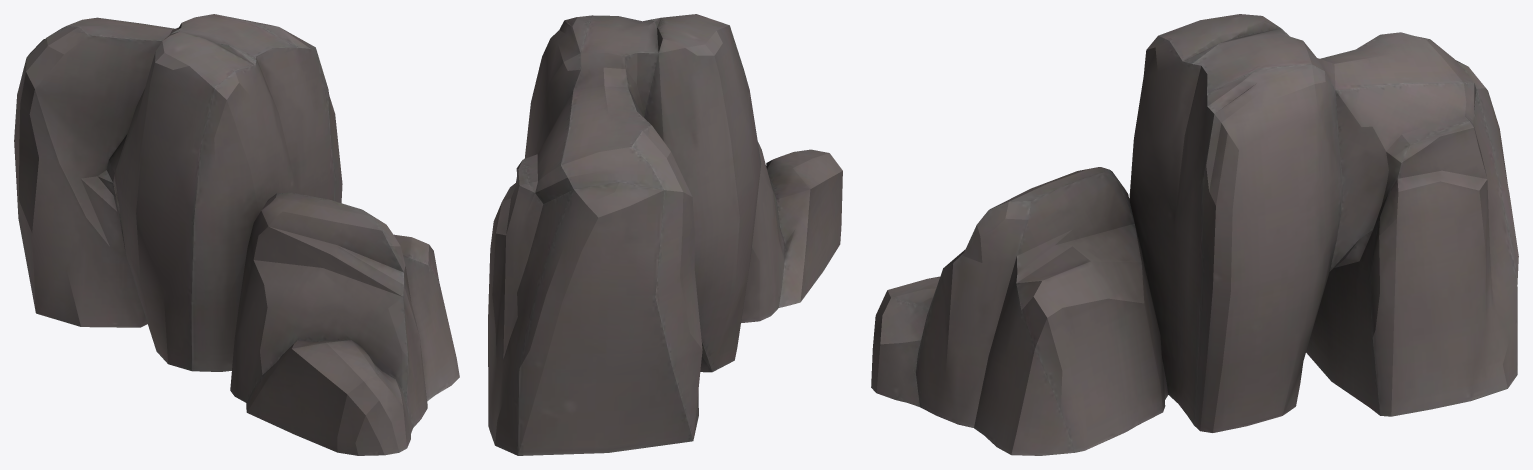
The picture shows the model from 3 angles, left to right: view 1: azimuth 30°, elevation 25°; view 2: azimuth 150°, elevation 25°; view 3: azimuth 270°, elevation 25°; orthographic projection. The views are drawn at different scales.
Visible parts, largest first — view 1: body0_model0_lod0_mesh0; view 2: body0_model0_lod0_mesh0; view 3: body0_model0_lod0_mesh0.
Part boxes in pixels (box(x1,y1,x2,y2)): body0_model0_lod0_mesh0: box(14, 14, 459, 455); body0_model0_lod0_mesh0: box(488, 14, 842, 455); body0_model0_lod0_mesh0: box(871, 14, 1518, 455).
Size of the model in its own units: 211 by 235 by 403.
1 material, 1 textured.
